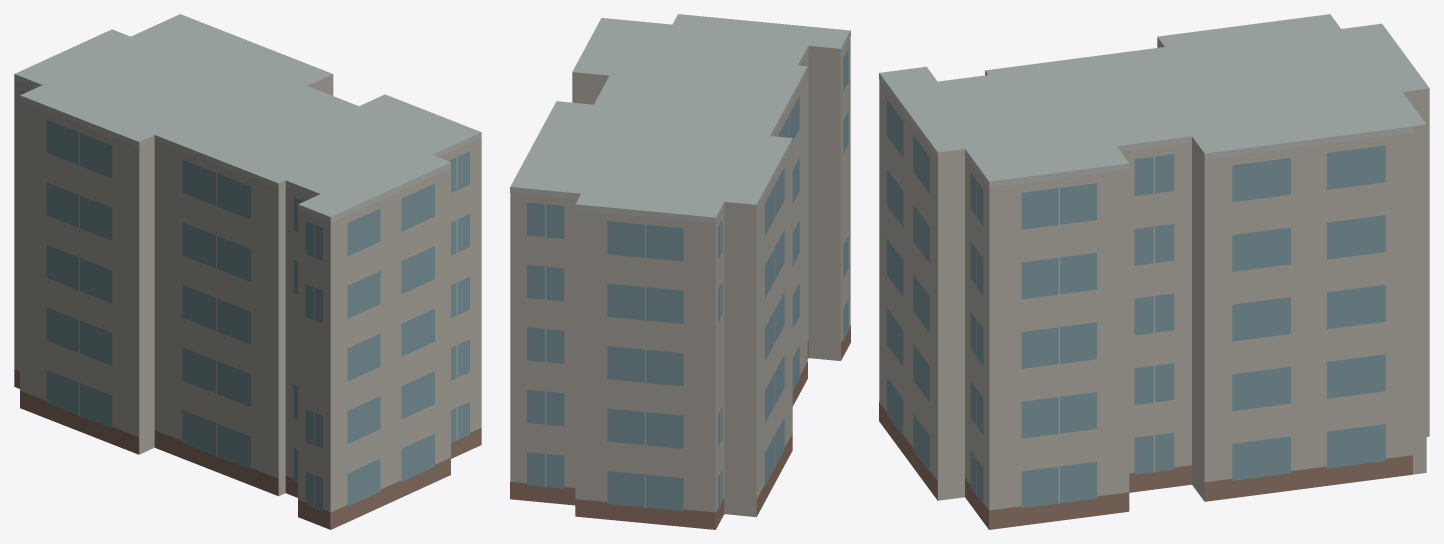
File: survey-upis-32619136.glb
3 views of the same model, side by side, from view 1: azimuth 30°, elevation 25°; view 2: azimuth 150°, elevation 25°; view 3: azimuth 270°, elevation 25° (orthographic). The views are drawn at different scales.
Visible parts, largest first — view 1: survey-upis-32619136.tmp; view 2: survey-upis-32619136.tmp; view 3: survey-upis-32619136.tmp.
Boxes of the visible parts, x1,y1,x2,y2 form: survey-upis-32619136.tmp: (14,14,481,529); survey-upis-32619136.tmp: (510,14,850,529); survey-upis-32619136.tmp: (879,14,1429,529).
Bounding box in the file's own units: 13.95 × 13.5 × 19.35.
